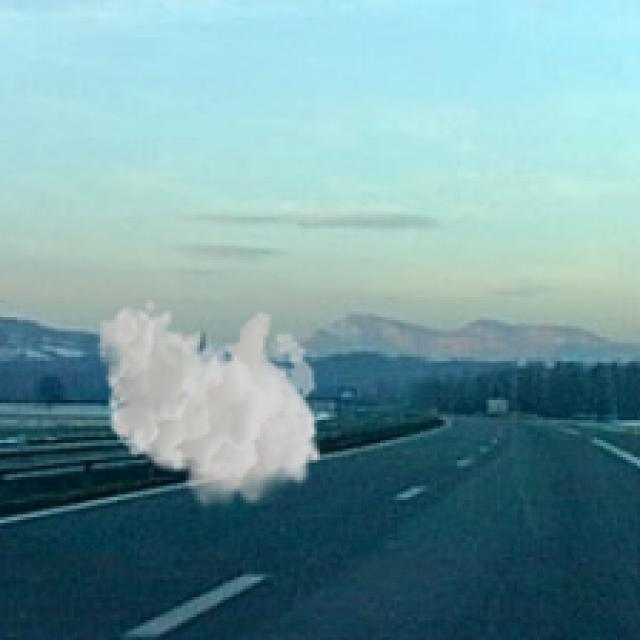smoke: (97, 297, 323, 514)
